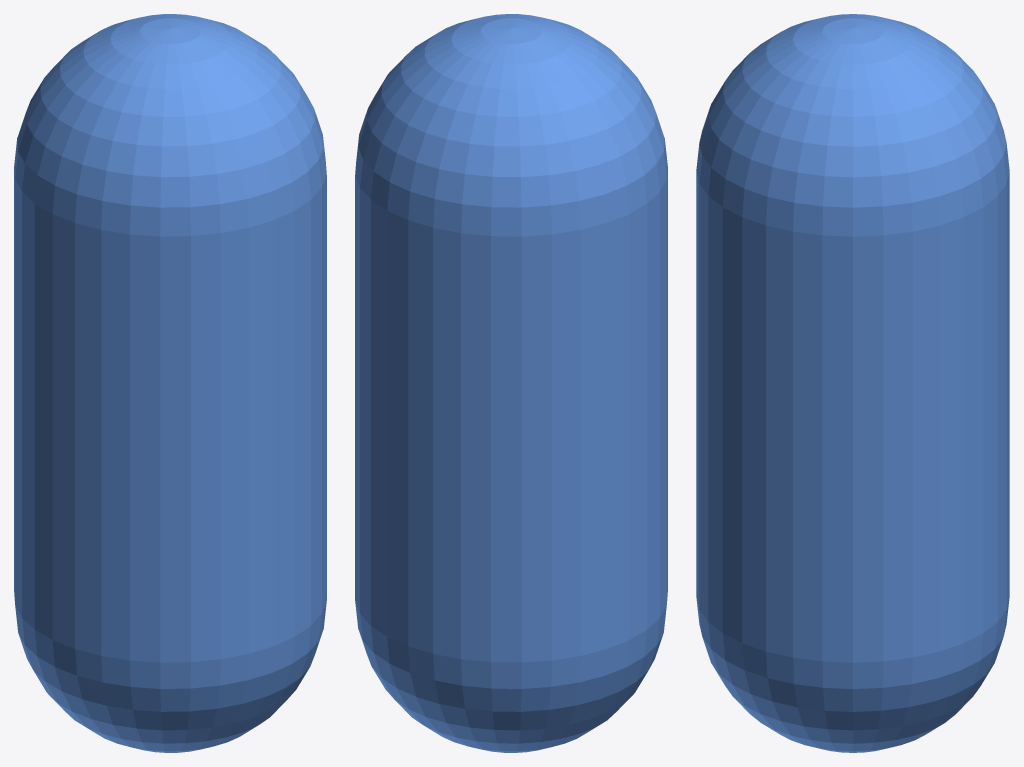
The model's file is player.glb.
3 renders of one model, left to right at view 1: azimuth 30°, elevation 25°; view 2: azimuth 150°, elevation 25°; view 3: azimuth 270°, elevation 25°, orthographic.
Visible parts, largest first — view 1: Player; view 2: Player; view 3: Player.
Part boxes in pixels (bbox=[...]): Player: bbox=[14, 14, 326, 752]; Player: bbox=[355, 14, 667, 752]; Player: bbox=[696, 14, 1009, 752].
Bounding box in the file's own units: 0.8 × 2 × 0.8.
